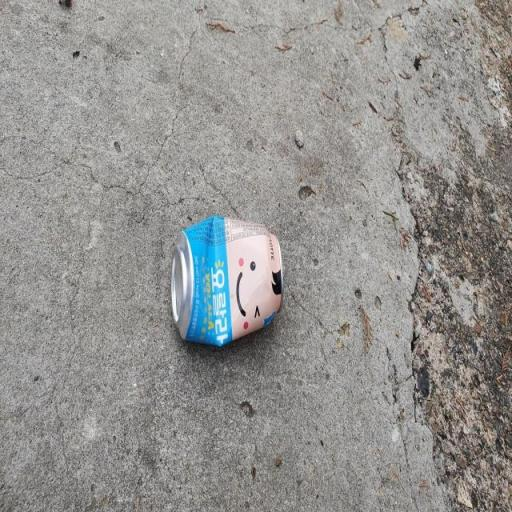metal: (150, 205, 328, 384)
